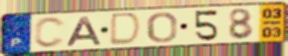5: (193, 10, 220, 42)
8: (227, 8, 256, 41)
A: (65, 15, 105, 47)
C: (32, 16, 67, 50)
D: (108, 12, 144, 47)
O: (145, 11, 179, 44)
